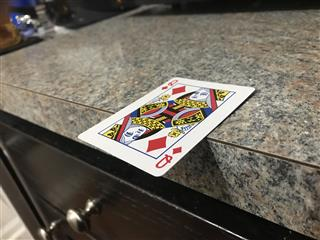QueenOfDiamonds: (76, 76, 255, 177)
